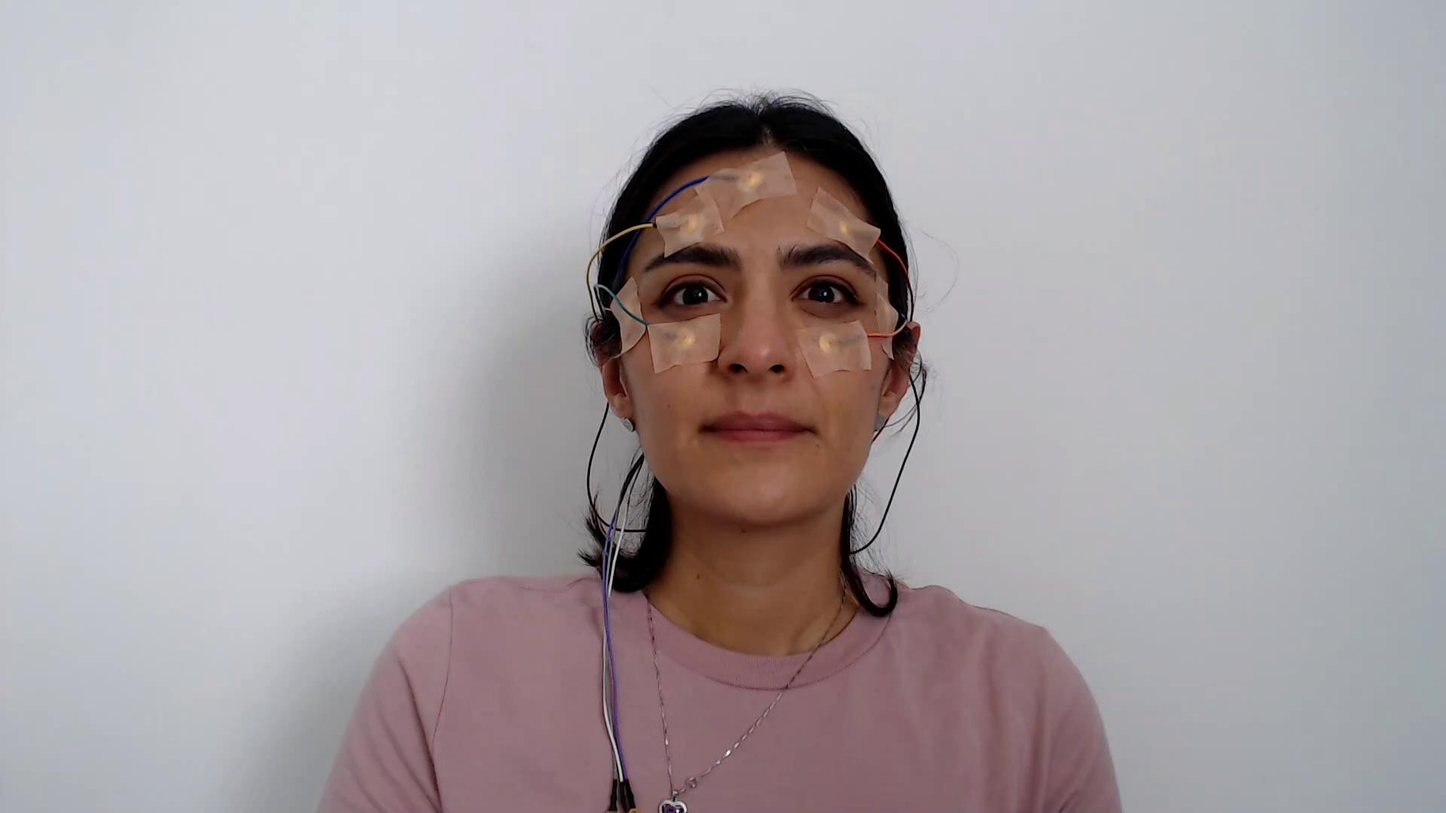Iris: (682, 286, 709, 305), (808, 286, 833, 303)
Ojos: (658, 276, 731, 310), (791, 275, 864, 309)
